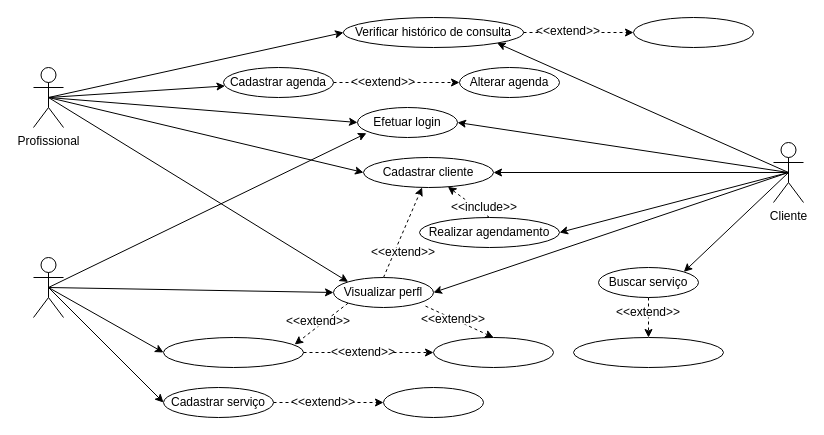
Some shapes in this 824 by 435 pixel diagram are drawn without their labels. The shapes that lost their labels are listed below. From the top down, each one's box as (x1, y1, x2, y2) in pixels, then its label:
(632, 16, 754, 48): Adicionar histórico
(32, 256, 64, 318): Clinica
(162, 336, 304, 368): Cadastrar profissional
(432, 336, 554, 368): Atualizar cadastro
(572, 336, 724, 368): Selecionar serviço
(382, 386, 484, 418): Atualizar serviço
